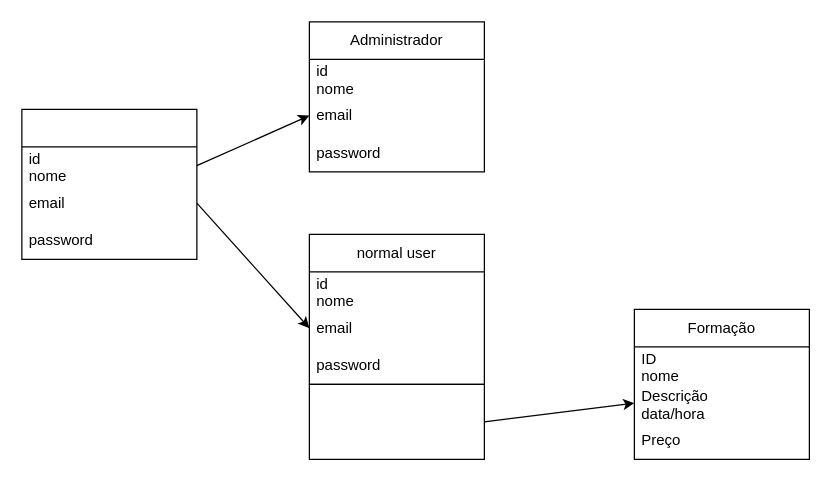
The diagram is 831 pixels wide and 481 high, and some of its shapes have lost their labels. Here are the shapes that lost their labels. From the top down, the box of each, then its label:
(21, 108, 197, 259): Utilizador
(308, 383, 484, 459): - inscrever - gostar -
